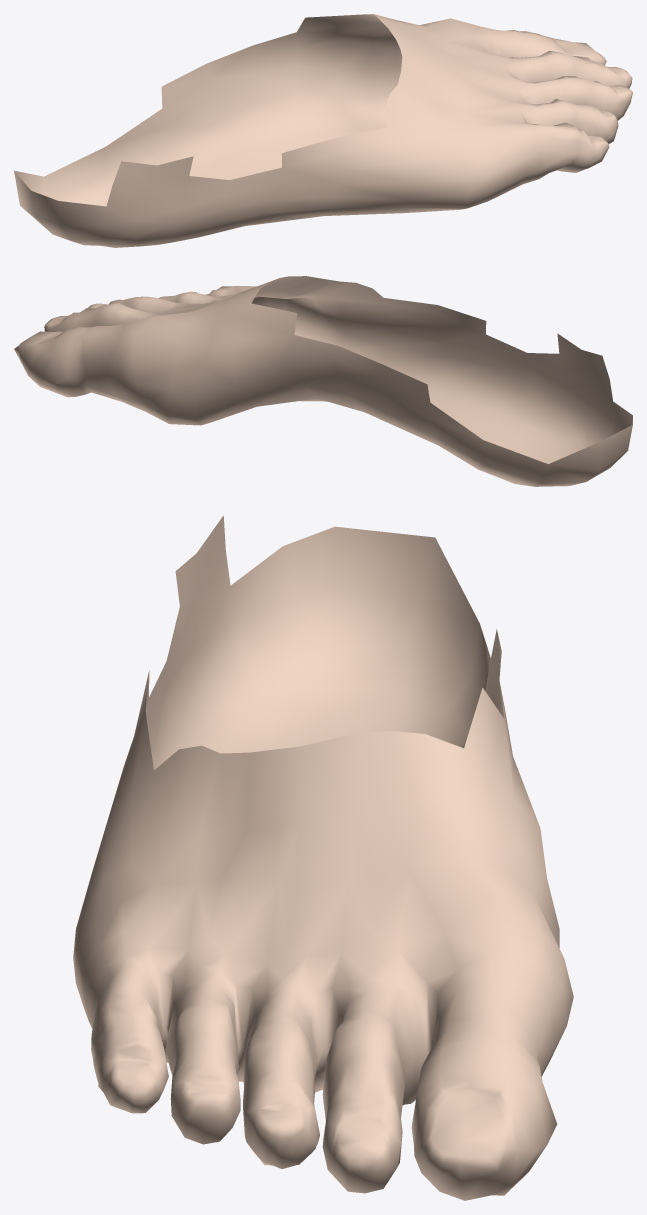
The model's file is human_rightfoot.dae.
3 renders of one model, top to bottom at view 1: azimuth 30°, elevation 25°; view 2: azimuth 150°, elevation 25°; view 3: azimuth 270°, elevation 25°, orthographic. The views are drawn at different scales.
Parts seen in each view (by area): view 1: frank_skeleton-base; view 2: frank_skeleton-base; view 3: frank_skeleton-base.
Boxes of the visible parts, x1=… form: frank_skeleton-base: x1=14, y1=14, x2=632, y2=247; frank_skeleton-base: x1=14, y1=276, x2=632, y2=486; frank_skeleton-base: x1=73, y1=515, x2=573, y2=1200.
Size of the model in its own units: 0.271 by 0.1015 by 0.0616.
